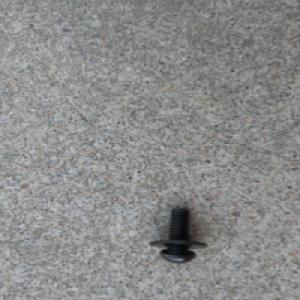BoltWasher: (146, 206, 209, 263)
